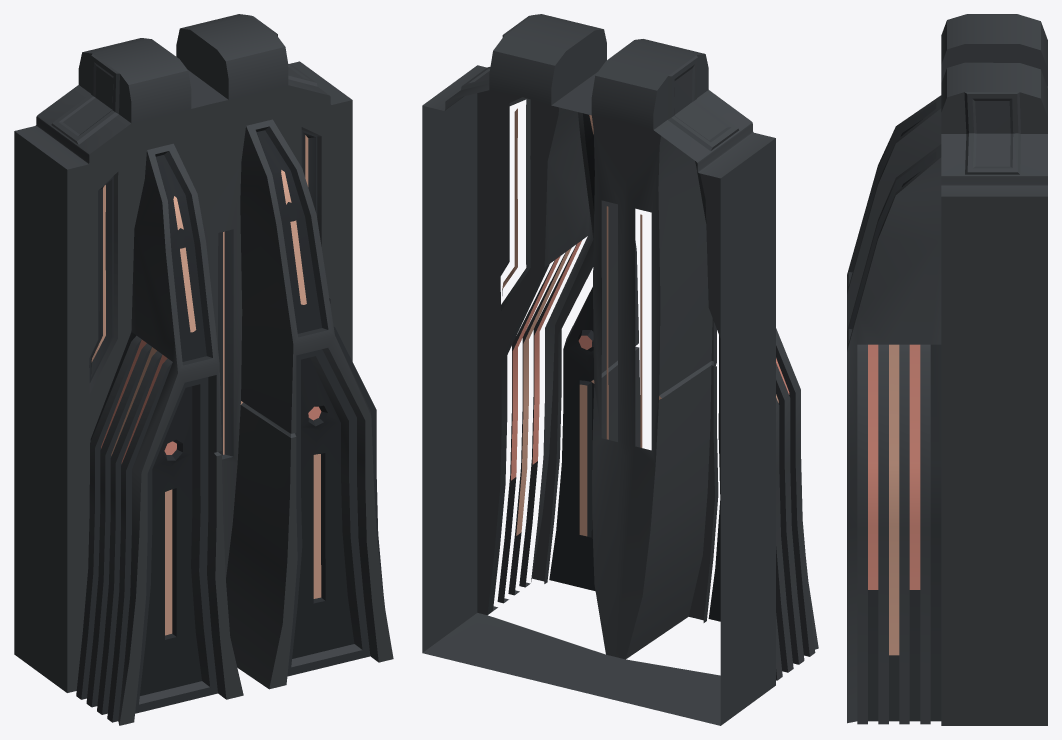
Rendered from Portal_Big_01.fbx.
3 renders of one model, left to right at view 1: azimuth 30°, elevation 25°; view 2: azimuth 150°, elevation 25°; view 3: azimuth 270°, elevation 25°, orthographic. The views are drawn at different scales.
Parts seen in each view (by area): view 1: Portal_Big_01; view 2: Portal_Big_01; view 3: Portal_Big_01.
Part boxes in pixels (bbox=[...]): Portal_Big_01: bbox=[14, 14, 393, 725]; Portal_Big_01: bbox=[422, 14, 818, 725]; Portal_Big_01: bbox=[847, 14, 1047, 725].
Bounding box in the file's own units: 500 × 997 × 302.
